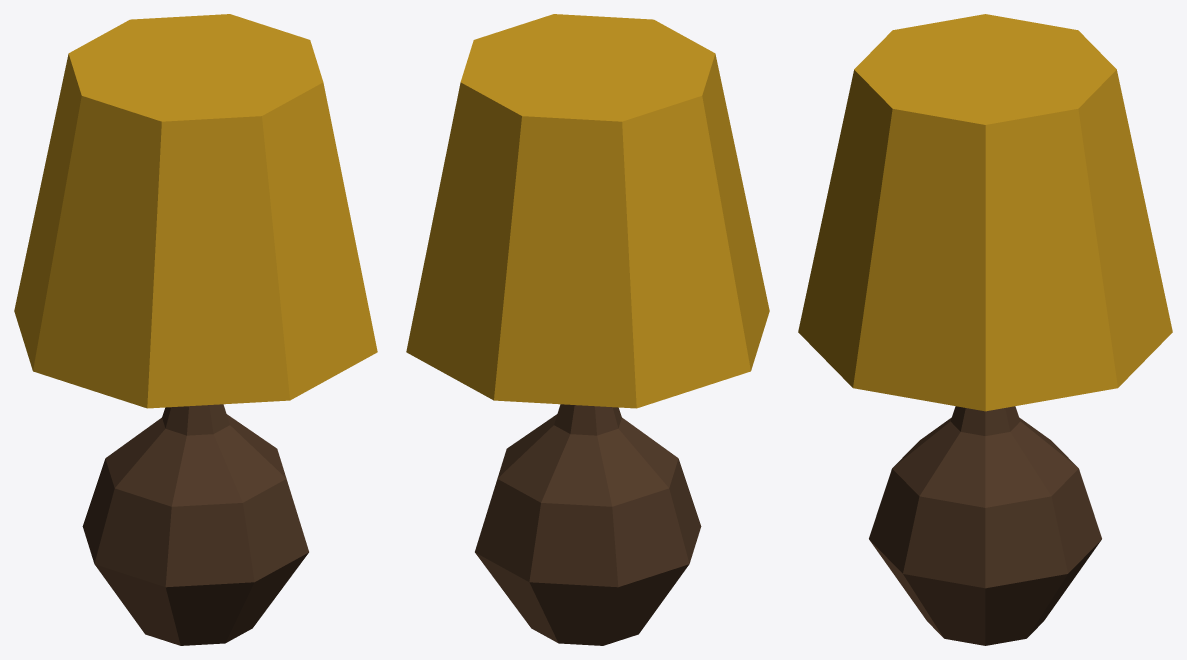
The model's file is table-lamp-25.glb.
The picture shows the model from 3 angles, left to right: view 1: azimuth 30°, elevation 25°; view 2: azimuth 150°, elevation 25°; view 3: azimuth 270°, elevation 25°; orthographic projection.
Parts seen in each view (by area): view 1: table_lamp_25; view 2: table_lamp_25; view 3: table_lamp_25.
Part boxes in pixels (<box>): table_lamp_25: <box>14,14,377,645</box>; table_lamp_25: <box>406,14,769,645</box>; table_lamp_25: <box>798,14,1172,645</box>.
Bounding box in the file's own units: 0.3177 × 0.5162 × 0.3177.
